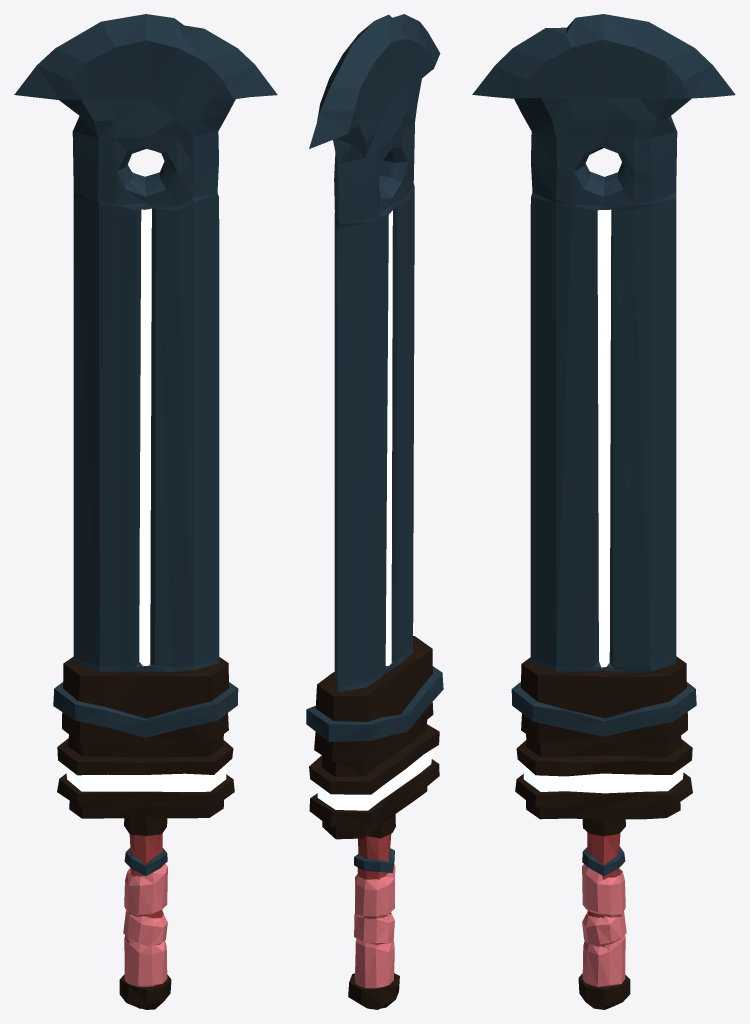
Rendered from SFFA_Weapon_Longsword_Gold_002.fbx.
3 views of the same model, side by side, from view 1: azimuth 90°, elevation 25°; view 2: azimuth 150°, elevation 25°; view 3: azimuth 270°, elevation 25° (orthographic).
Visible parts, largest first — view 1: SFFA_Weapon_Longsword_Gold_002; view 2: SFFA_Weapon_Longsword_Gold_002; view 3: SFFA_Weapon_Longsword_Gold_002.
Part boxes in pixels (x1,y1,x2,y2): SFFA_Weapon_Longsword_Gold_002: (14,14,277,1009); SFFA_Weapon_Longsword_Gold_002: (306,14,443,1009); SFFA_Weapon_Longsword_Gold_002: (472,14,735,1009).
Bounding box in the file's own units: 11.09 × 153 × 36.95.
